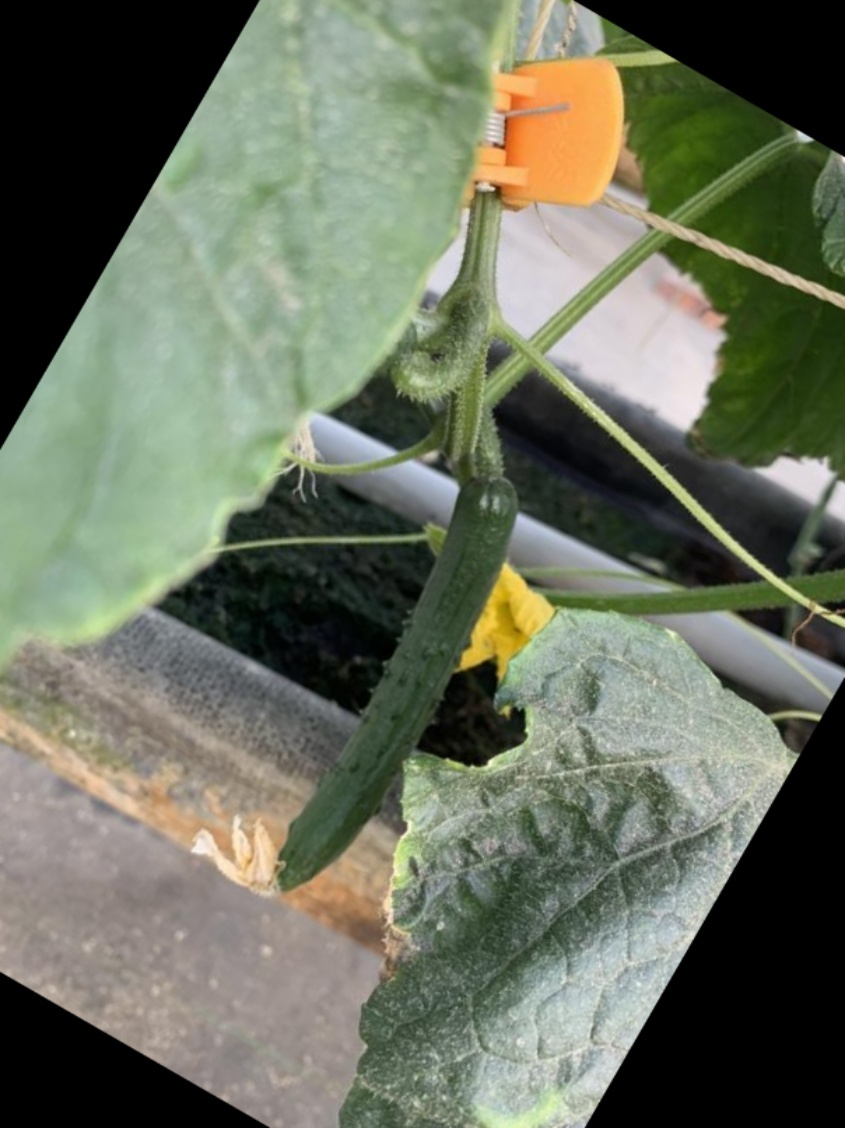mature: (261, 451, 522, 890)
